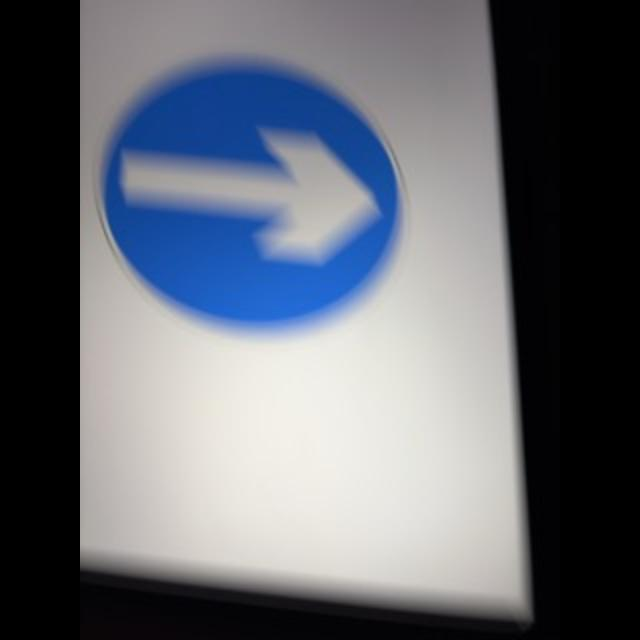TURN RIGHT: (96, 44, 414, 344)
